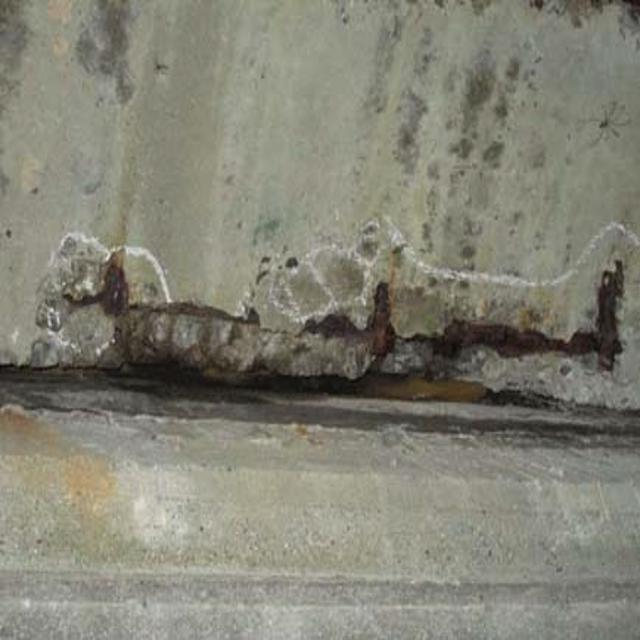spalling: (41, 220, 622, 407)
